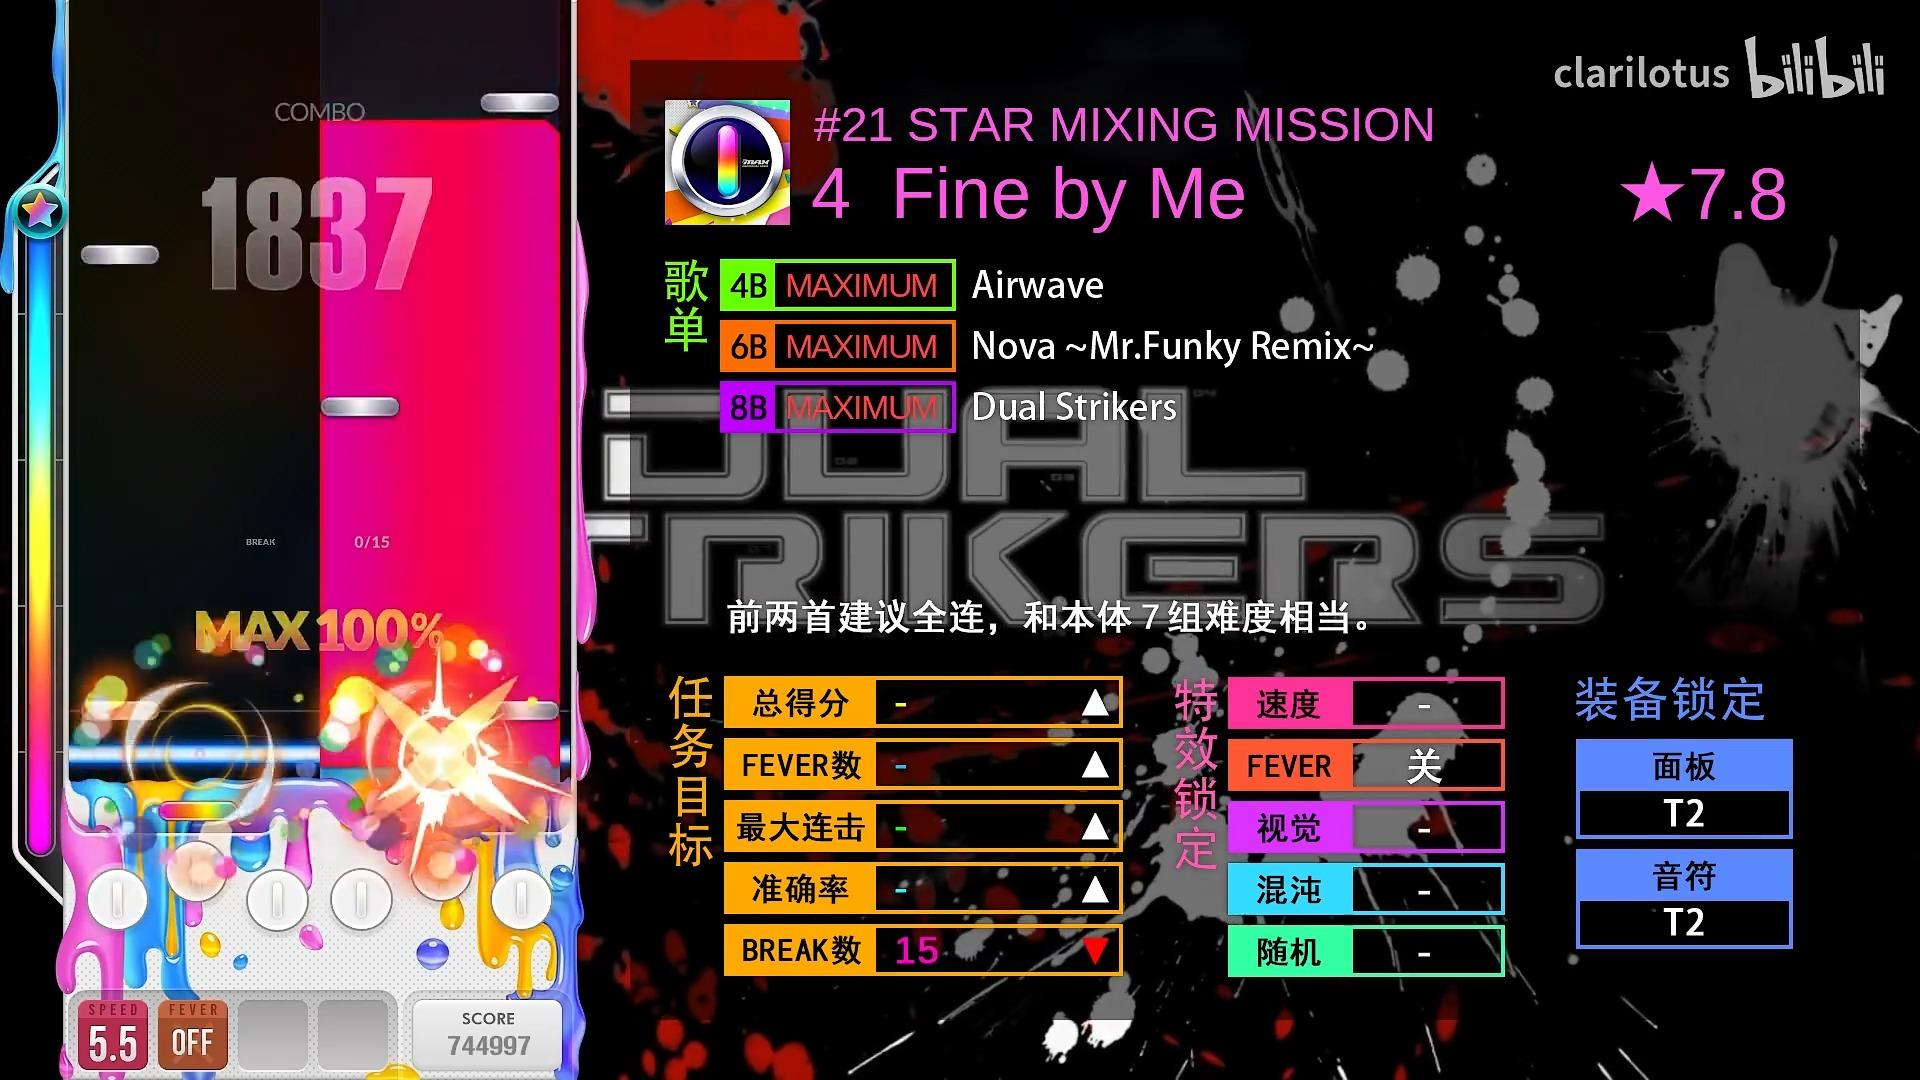note: (320, 396, 402, 419), (80, 244, 158, 266), (80, 700, 160, 721), (484, 700, 559, 721), (480, 92, 559, 112)
